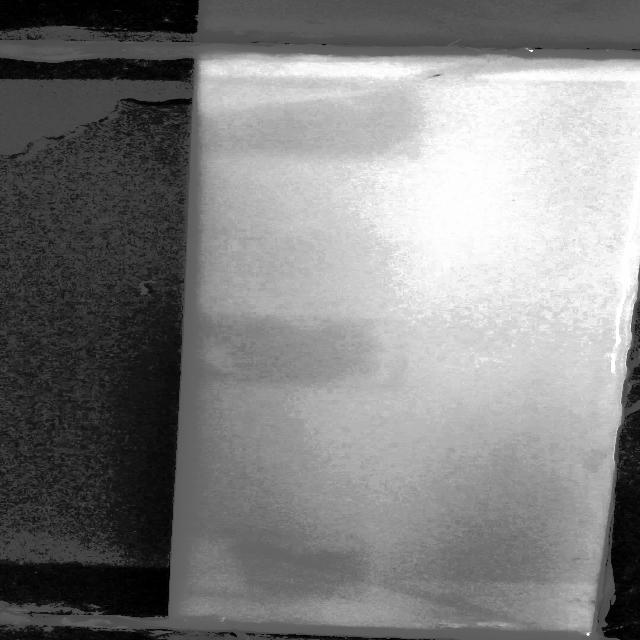shrimp: (414, 67, 448, 82)
